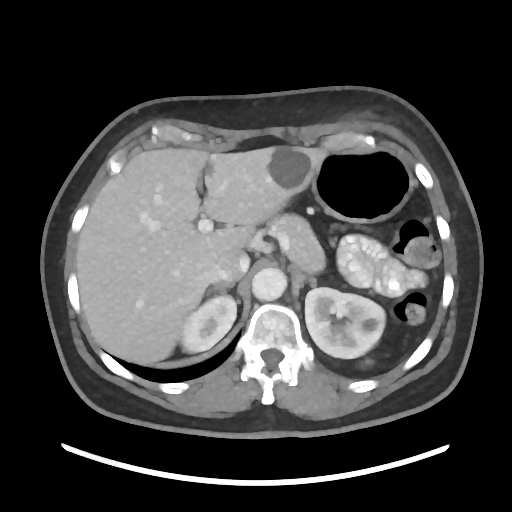Lesion: (360, 314, 379, 332)
